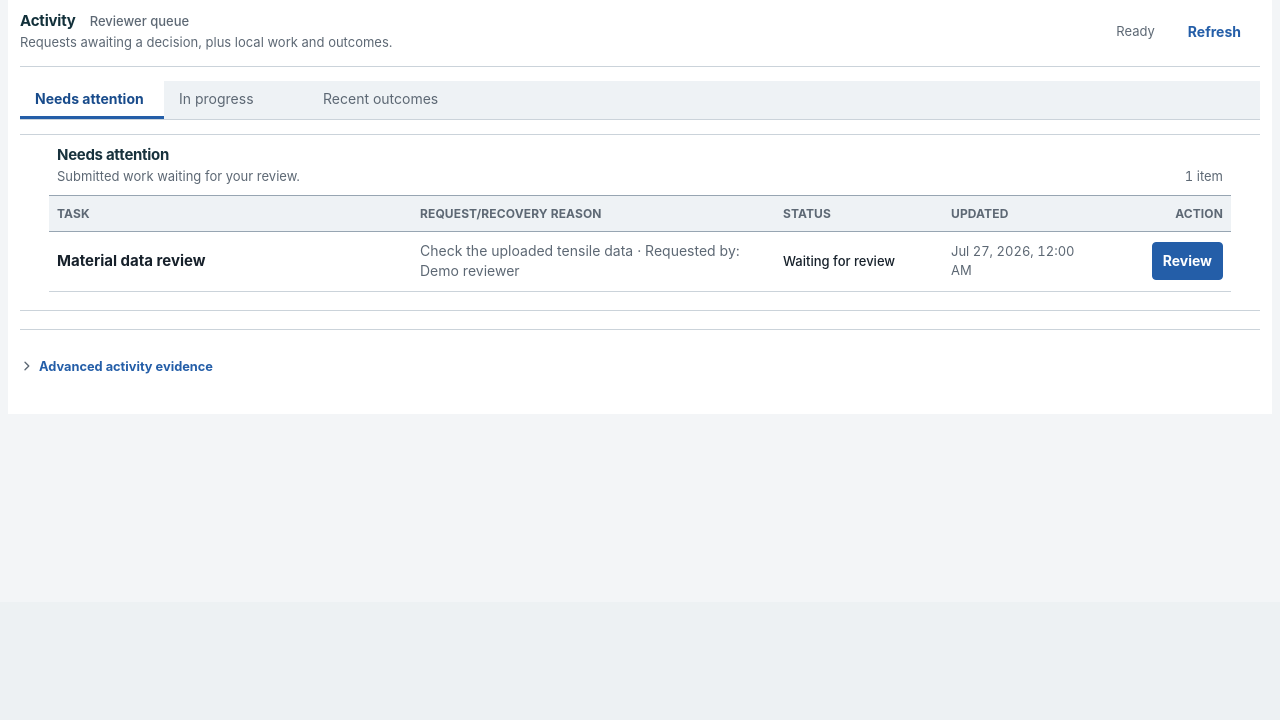
Scenario: Activity Modeling resume › lets a Reviewer record an approval and moves the returned immutable request to outcomes
Click the button "Review".
click(1187, 261)  # box [1152,242,1223,280]
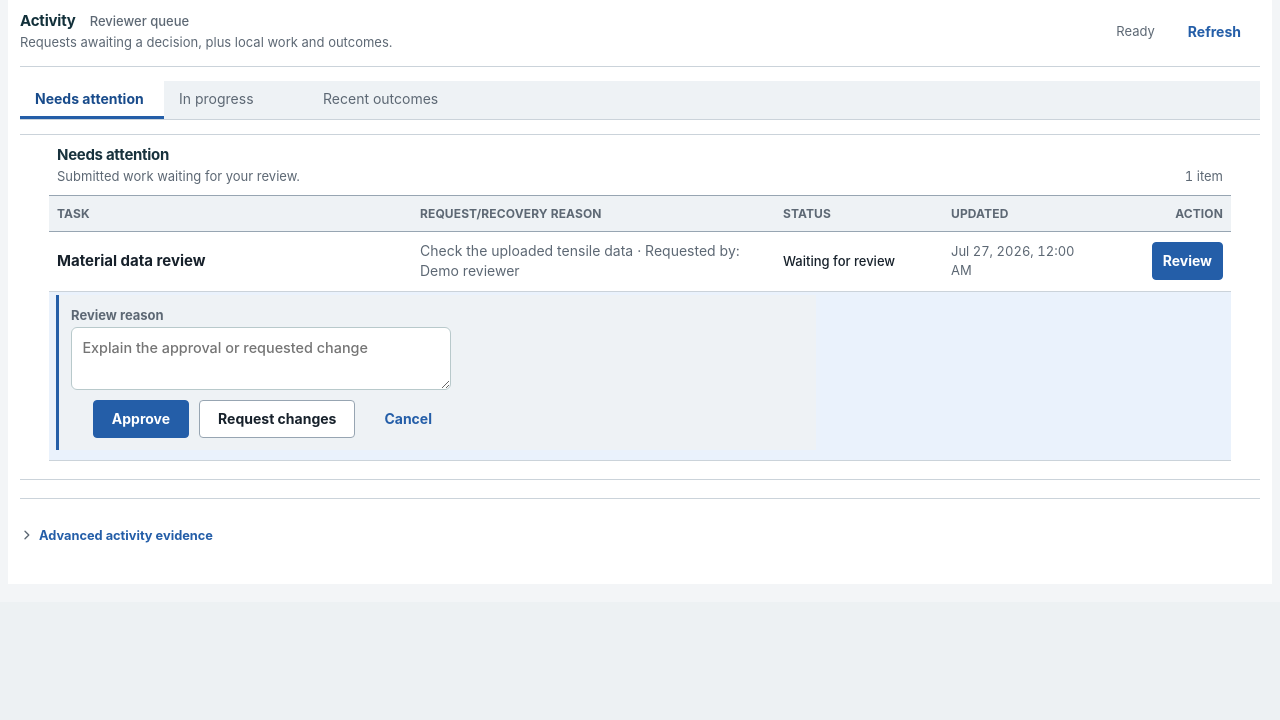
Type "Units and source are complete" into the text box labelled "Review reason".
click(261, 359); type("Units and source are complete")  # box [71,327,451,390]
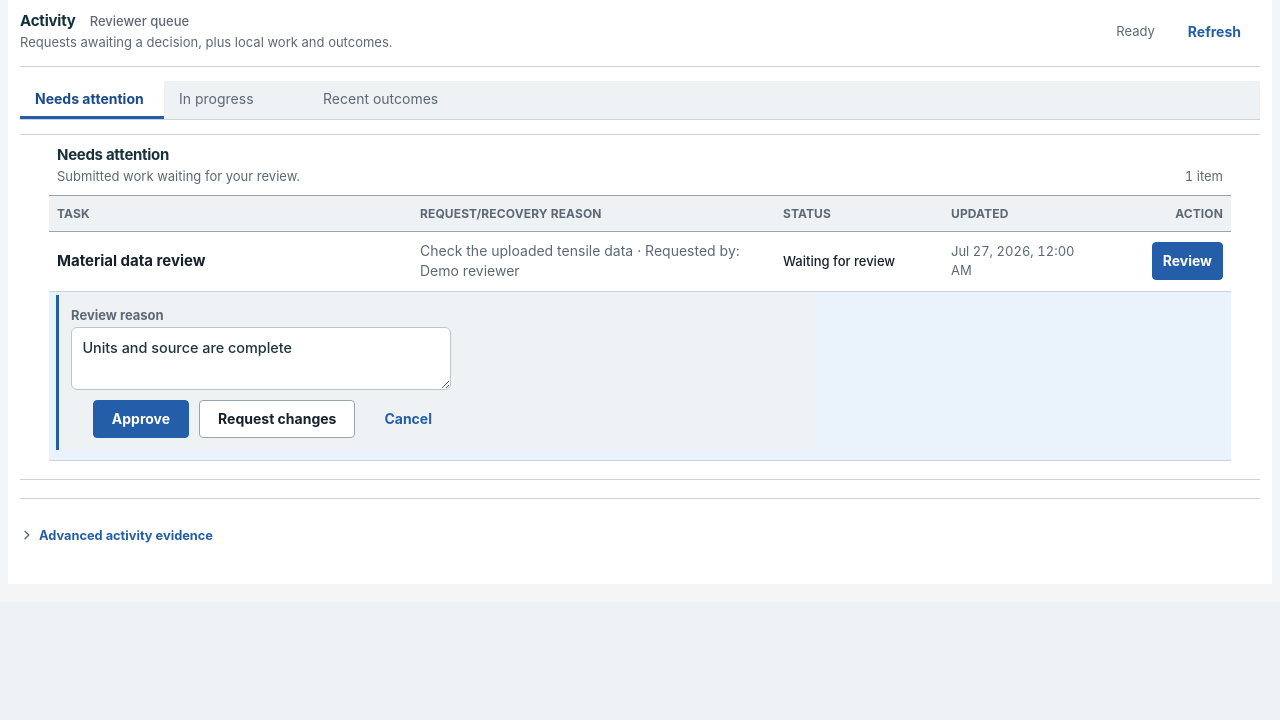
Click the button "Approve".
click(141, 419)  # box [93,400,189,438]
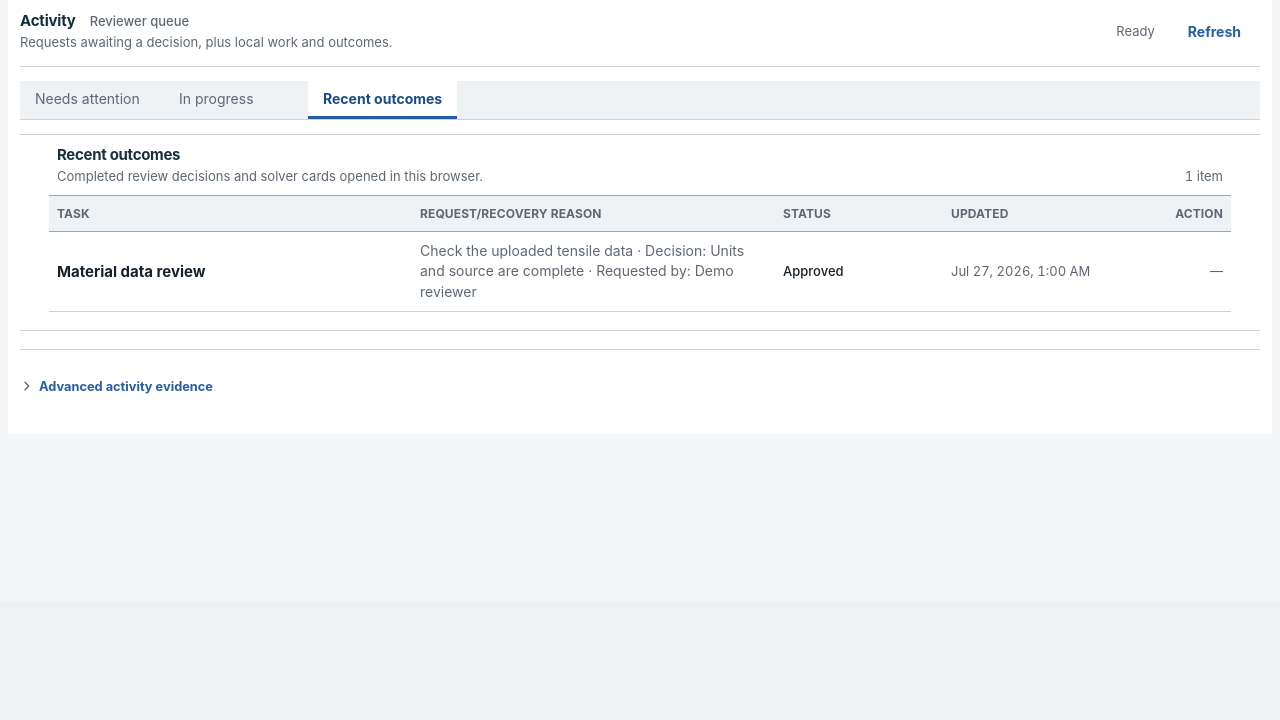
Now the heading "Recent outcomes" is shown, box [57,145,180,164]
Now the text "Approved" is shown, box [783,263,844,279]
